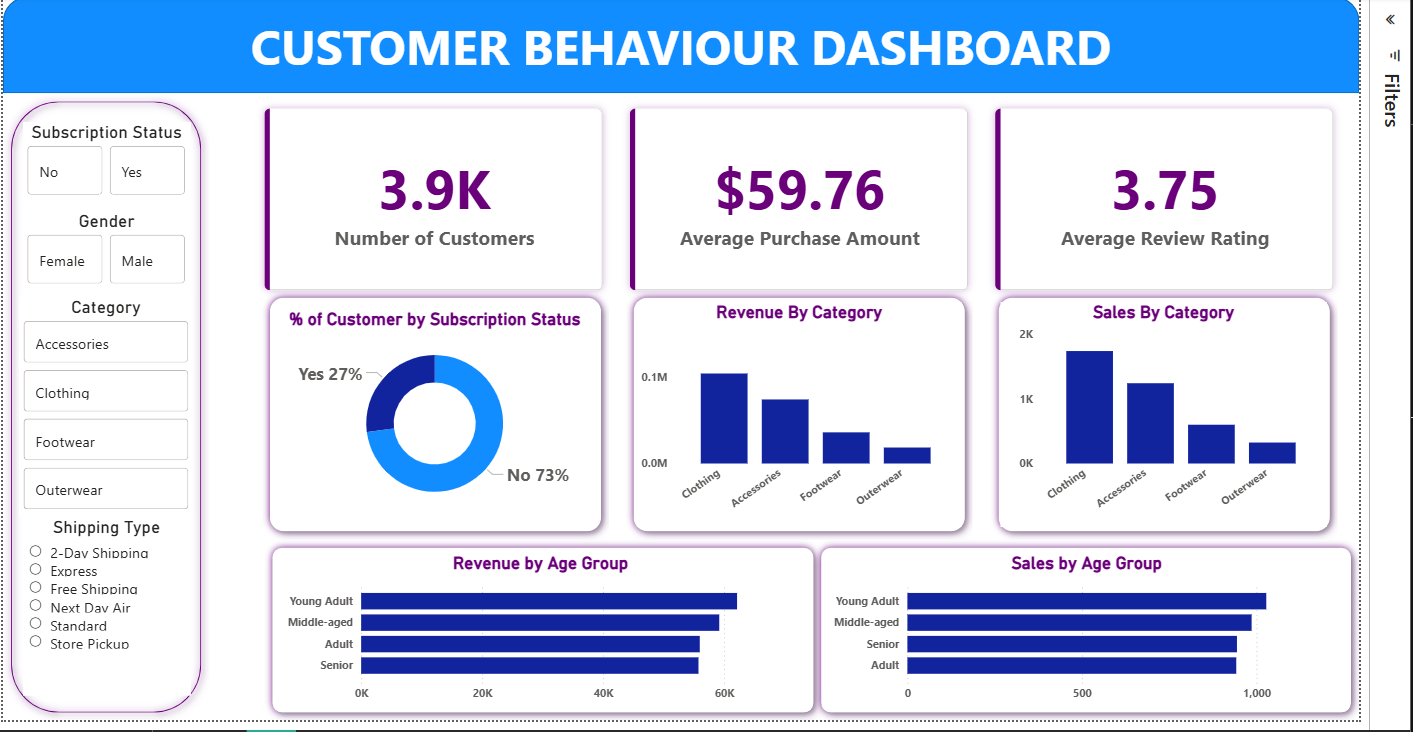

This screenshot's page, from the dashboard's own definition file:
{"tool":"powerbi","page":{"name":"Page 1","canvas":[1500,800],"ordinal":0},"visuals":[{"type":"cardVisual","fields":{"Data":["public customer.Number of Customers","public customer.Average Purchase Amount","public customer.Average Review Rating"]},"box":[261.2,95.4,1238.4,257.1],"z":0},{"type":"shape","box":[0,0,1499.7,106.4],"z":1000},{"type":"textbox","box":[0,12.4,1499.7,82.9],"z":2000},{"type":"shape","box":[286.1,323.4,384.2,276.4],"z":3000},{"type":"donutChart","title":"% of Customer by Subscription Status","fields":{"Category":["public customer.subscription_status"],"Y":["CountNonNull(public customer.customer_id)"]},"box":[299.9,345.5,355.2,230.8],"z":4000},{"type":"shape","box":[0,106.4,228.1,693.9],"z":5000},{"type":"shape","box":[688.3,323.4,384.2,276.4],"z":6000},{"type":"clusteredColumnChart","title":"Revenue By Category","fields":{"Y":["Sum(public customer.purchase_amount)"],"Category":["public customer.category"]},"box":[700.8,337.3,359.4,248.8],"z":7000},{"type":"shape","box":[1091.9,323.4,384.2,276.4],"z":8000},{"type":"clusteredColumnChart","title":"Sales By Category","fields":{"Y":["CountNonNull(public customer.customer_id)"],"Category":["public customer.category"]},"box":[1103,337.3,360.7,248.8],"z":9000},{"type":"advancedSlicerVisual","fields":{"Values":["public customer.subscription_status"]},"box":[22.1,138.2,185.2,85.7],"z":10000},{"type":"advancedSlicerVisual","fields":{"Values":["public customer.gender"]},"box":[22.1,236.4,185.2,85.7],"z":11000},{"type":"advancedSlicerVisual","fields":{"Values":["public customer.category"]},"box":[18,331.7,192.1,243.3],"z":12000},{"type":"listSlicer","fields":{"Values":["public customer.shipping_type"]},"box":[22.1,575,185.2,197.7],"z":13000},{"type":"shape","box":[288.9,599.9,616.5,200.4],"z":14000},{"type":"clusteredBarChart","title":"Revenue by Age Group","fields":{"Y":["Sum(public customer.purchase_amount)"],"Category":["public customer.age_group"]},"box":[308.2,615.1,572.2,172.8],"z":15000},{"type":"shape","box":[895.7,599.9,604,200.4],"z":16000},{"type":"clusteredBarChart","title":"Sales by Age Group","fields":{"Y":["CountNonNull(public customer.customer_id)"],"Category":["public customer.age_group"]},"box":[912.2,615.1,572.2,172.8],"z":17000}]}

Visuals, with their boxes in screenshot pixels (x1, y1, x2, y2), scaled from the page's 1500x800 canvas onto the 1413x732 screenshot:
cardVisual - public customer.Number of Customers x public customer.Average Purchase Amount: 246, 87, 1412, 323
shape: 0, 0, 1412, 97
textbox: 0, 11, 1412, 87
shape: 270, 296, 631, 549
"% of Customer by Subscription Status" donutChart: 283, 316, 617, 527
shape: 0, 97, 215, 731
shape: 648, 296, 1010, 549
"Revenue By Category" clusteredColumnChart: 660, 309, 999, 536
shape: 1029, 296, 1390, 549
"Sales By Category" clusteredColumnChart: 1039, 309, 1379, 536
advancedSlicerVisual - public customer.subscription_status: 21, 126, 195, 205
advancedSlicerVisual - public customer.gender: 21, 216, 195, 295
advancedSlicerVisual - public customer.category: 17, 304, 198, 526
listSlicer - public customer.shipping_type: 21, 526, 195, 707
shape: 272, 549, 853, 731
"Revenue by Age Group" clusteredBarChart: 290, 563, 829, 721
shape: 844, 549, 1412, 731
"Sales by Age Group" clusteredBarChart: 859, 563, 1398, 721
